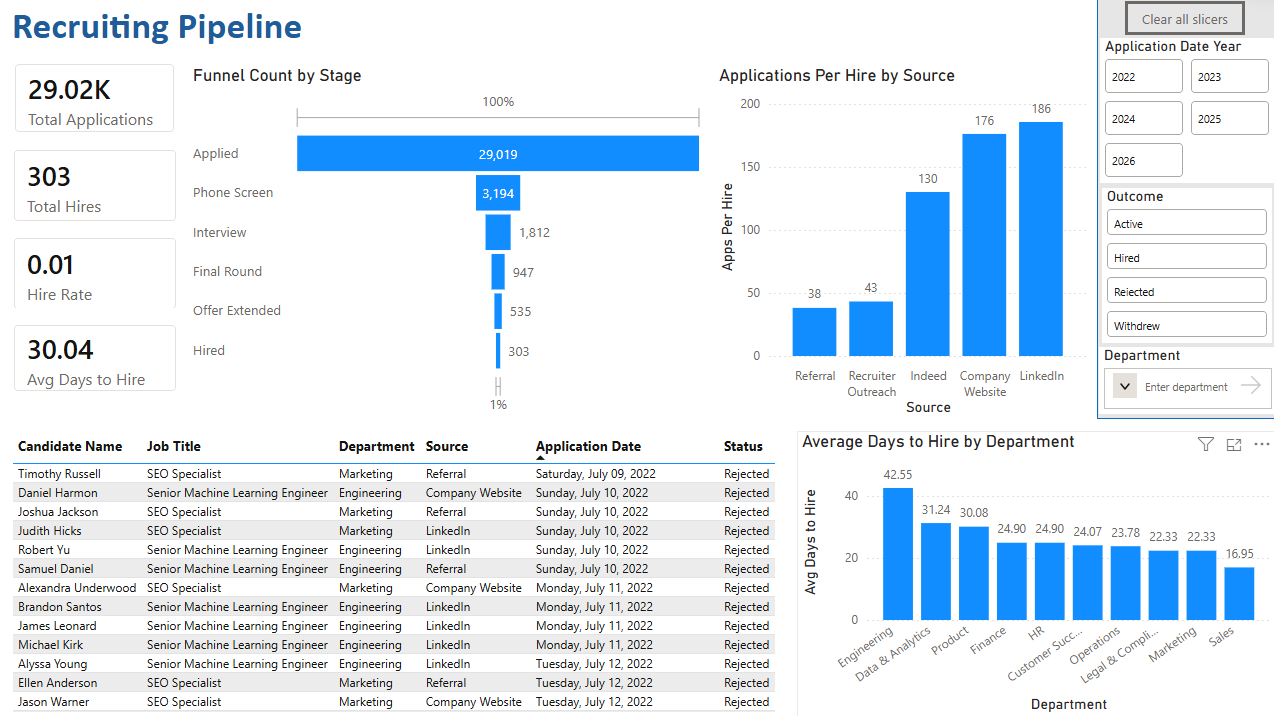

The dashboard page shown, as its layout file describes it:
{"tool":"powerbi","page":{"name":"Recruiting Pipeline","canvas":[1280,720],"ordinal":0},"visuals":[{"type":"textbox","box":[9.7,0,311.2,68.1],"z":0},{"type":"shape","box":[1100.1,0,179.9,422.1],"z":1000},{"type":"actionButton","box":[1128.3,3.9,119.6,34],"z":2000},{"type":"advancedSlicerVisual","fields":{"Values":["clean vw_recruiting_pipeline.Application Date Year"]},"box":[1103,40.9,174.1,144.9],"z":4000},{"type":"barChart","title":"Avg. Days to Hire by Department","fields":{"Category":["clean vw_recruiting_pipeline.department"],"Y":["_Measures.Avg Days to Hire"]},"box":[321,77.8,332.6,290.8],"z":5000},{"type":"columnChart","title":"Applications Per Hire by Source","fields":{"Category":["clean vw_recruiting_pipeline.source"],"Y":["_Measures.Apps Per Hire"]},"box":[721.7,57.4,378.4,355],"z":6000},{"type":"funnel","fields":{"Y":["_Measures.Funnel Count"],"Category":["Funnel Stages.Stage"]},"box":[189.7,57.4,521.3,355],"z":7000},{"type":"cardVisual","fields":{"Data":["_Measures.Total Applications"]},"box":[1,49.6,192.6,102.1],"z":8000},{"type":"cardVisual","fields":{"Data":["_Measures.Total Hires"]},"box":[0,136.2,195.5,105],"z":9000},{"type":"cardVisual","fields":{"Data":["_Measures.Hire Rate"]},"box":[0,223.7,195.5,105],"z":10000},{"type":"cardVisual","fields":{"Data":["_Measures.Avg Days to Hire"]},"box":[0,311.2,195.5,100.2],"z":11000},{"type":"tableEx","fields":{"Values":["clean vw_recruiting_pipeline.candidate_name","clean vw_recruiting_pipeline.title","clean vw_recruiting_pipeline.department","clean vw_recruiting_pipeline.source","clean vw_recruiting_pipeline.applied_date","clean vw_recruiting_pipeline.outcome"]},"box":[9.7,433.8,828.7,286],"z":12000},{"type":"advancedSlicerVisual","title":"Outcome","fields":{"Values":["clean vw_recruiting_pipeline.outcome"]},"box":[1104.9,190.6,170.2,155.6],"z":13000},{"type":"columnChart","title":"Average Days to Hire by Department","fields":{"Y":["Avg(clean vw_recruiting_pipeline.days_to_hire)"],"Category":["clean vw_recruiting_pipeline.department"]},"box":[799.5,433.8,478.5,286],"z":14000},{"type":"textSlicer","title":"Department","fields":{"Values":["clean vw_recruiting_pipeline.department"]},"box":[1102,350.2,178,67.1],"z":14001}]}

Visuals, with their boxes in screenshot pixels (x1, y1, x2, y2), scaled from the page's 1280x720 canvas onto the 1274x716 screenshot:
textbox: (left=10, top=0, right=319, bottom=68)
shape: (left=1095, top=0, right=1273, bottom=420)
actionButton: (left=1123, top=4, right=1242, bottom=38)
advancedSlicerVisual - clean vw_recruiting_pipeline.Application Date Year: (left=1098, top=41, right=1271, bottom=185)
"Avg. Days to Hire by Department" barChart: (left=319, top=77, right=651, bottom=367)
"Applications Per Hire by Source" columnChart: (left=718, top=57, right=1095, bottom=410)
funnel - _Measures.Funnel Count x Funnel Stages.Stage: (left=189, top=57, right=708, bottom=410)
cardVisual - _Measures.Total Applications: (left=1, top=49, right=193, bottom=151)
cardVisual - _Measures.Total Hires: (left=0, top=135, right=195, bottom=240)
cardVisual - _Measures.Hire Rate: (left=0, top=222, right=195, bottom=327)
cardVisual - _Measures.Avg Days to Hire: (left=0, top=309, right=195, bottom=409)
tableEx - clean vw_recruiting_pipeline.candidate_name x clean vw_recruiting_pipeline.title: (left=10, top=431, right=834, bottom=715)
"Outcome" advancedSlicerVisual: (left=1100, top=190, right=1269, bottom=344)
"Average Days to Hire by Department" columnChart: (left=796, top=431, right=1272, bottom=715)
"Department" textSlicer: (left=1097, top=348, right=1273, bottom=415)
